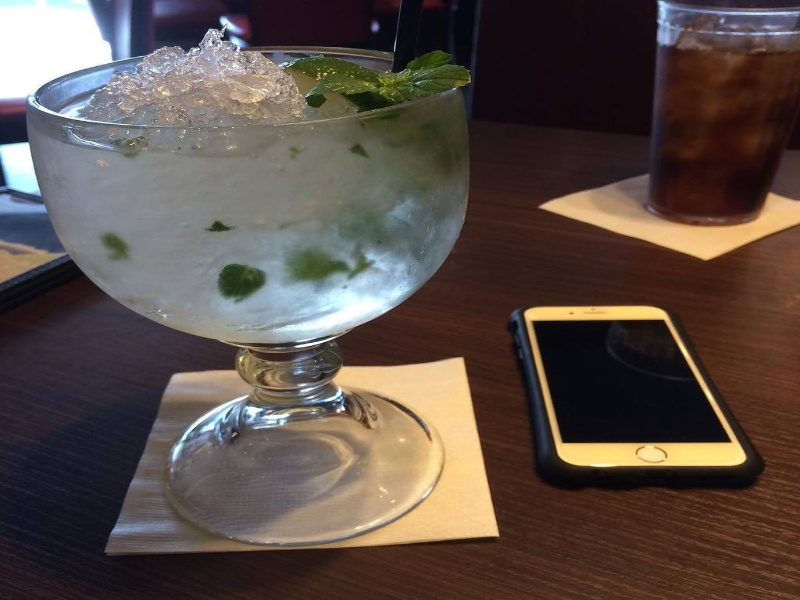cellphone: (508, 304, 770, 499)
